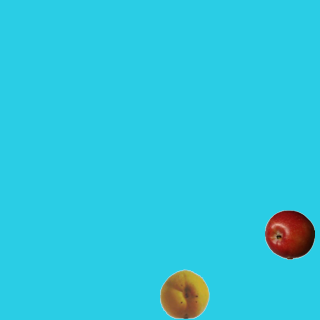Apple Braeburn: (264, 209, 314, 259)
Peach 2: (159, 268, 209, 318)
